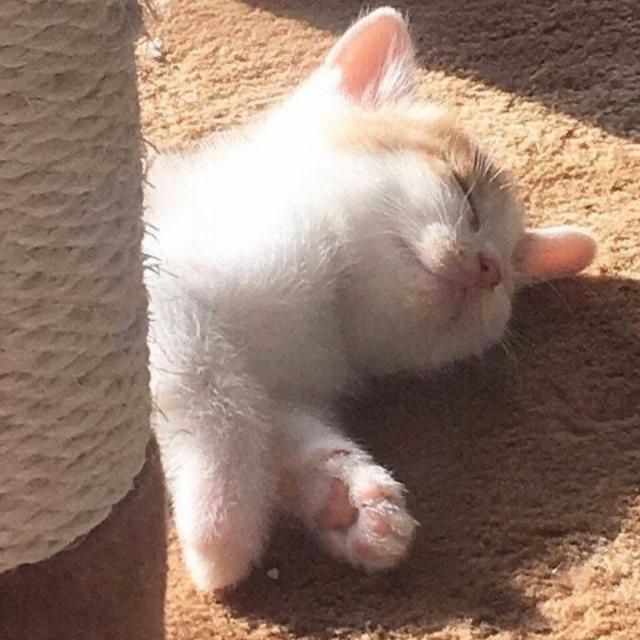cat: (140, 4, 594, 598)
